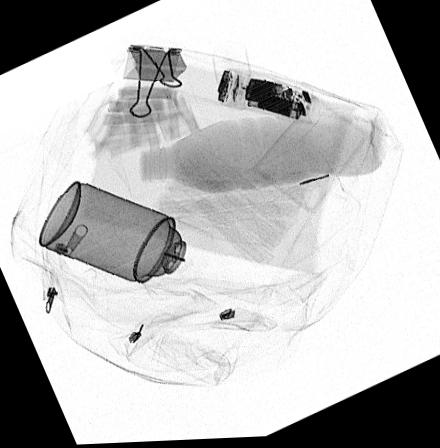Sprayer: (40, 182, 208, 292)
